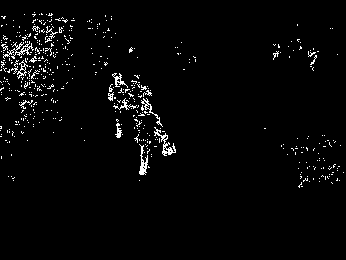person: (135, 97, 177, 180), (106, 71, 129, 138), (128, 74, 150, 133)
